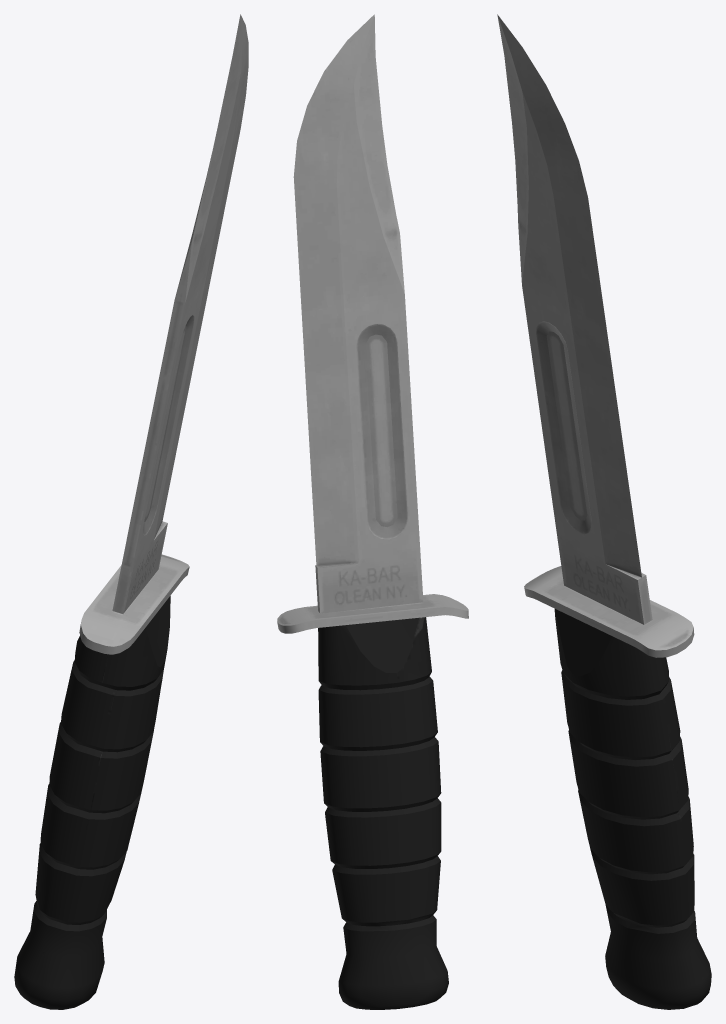
Rendered from Kabar_1.glb.
The picture shows the model from 3 angles, left to right: view 1: azimuth 30°, elevation 25°; view 2: azimuth 150°, elevation 25°; view 3: azimuth 270°, elevation 25°; orthographic projection. The views are drawn at different scales.
Visible parts, largest first — view 1: Kabar_upd; view 2: Kabar_upd; view 3: Kabar_upd.
Boxes of the visible parts, left/top/right/bottom form: Kabar_upd: left=14, top=14, right=248, bottom=1009; Kabar_upd: left=277, top=14, right=468, bottom=1009; Kabar_upd: left=497, top=14, right=711, bottom=1009.
Bounding box in the file's own units: 0.0673 × 0.3349 × 0.0632.
Materials: 1 (1 with a texture image).
